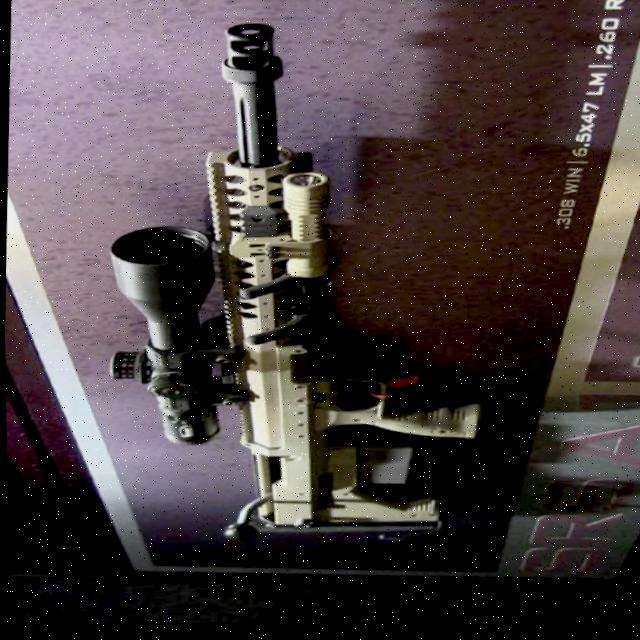firearm: (92, 6, 496, 558)
